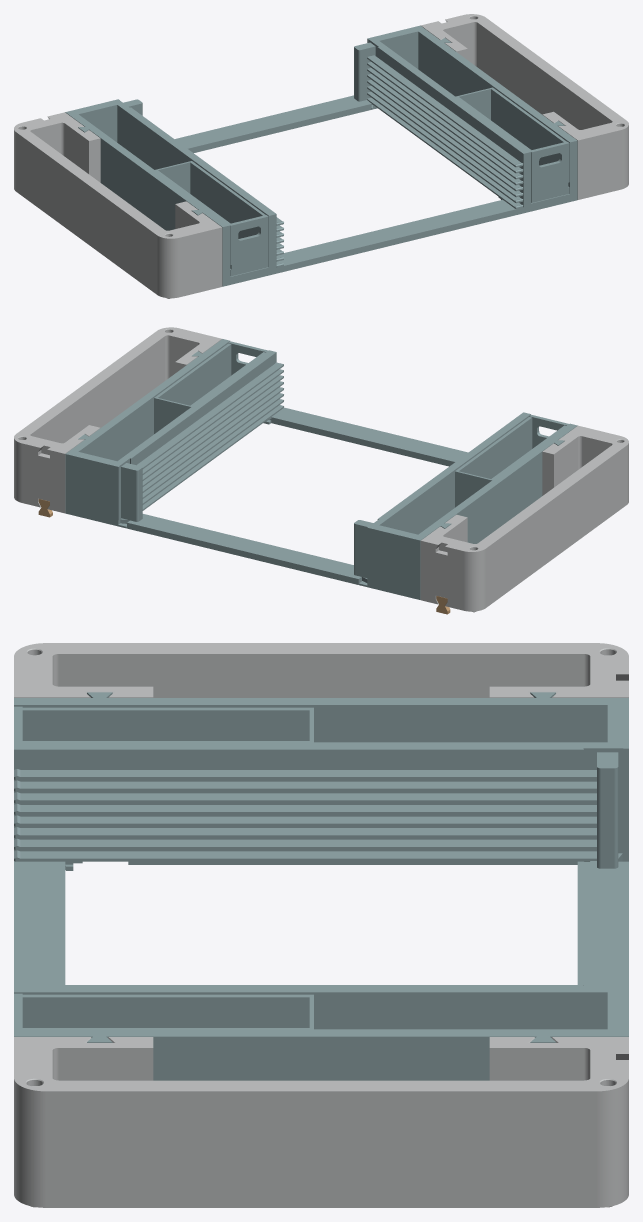
The model's file is layer-assembly.glb.
The picture shows the model from 3 angles, top to bottom: view 1: azimuth 30°, elevation 25°; view 2: azimuth 150°, elevation 25°; view 3: azimuth 270°, elevation 25°; orthographic projection. The views are drawn at different scales.
Parts seen in each view (by area): view 1: B07, B04, B08, B03, B09, B10, B05, B06; view 2: B04, B07, B03, B08, B06, B05, B10, B09; view 3: B03, B08, B04, B07, B09, B10, B05, B06.
Boxes of the visible parts, x1,y1,x2,y2 form: B07: [14, 112, 222, 298]; B04: [354, 25, 577, 214]; B08: [420, 14, 628, 199]; B03: [65, 99, 284, 286]; B09: [155, 161, 268, 276]; B10: [455, 87, 569, 202]; B05: [280, 199, 515, 271]; B06: [175, 95, 372, 152]; B04: [65, 339, 283, 528]; B07: [420, 425, 628, 612]; B03: [354, 412, 577, 599]; B08: [14, 327, 221, 513]; B06: [120, 514, 367, 584]; B05: [270, 407, 468, 466]; B10: [154, 341, 268, 433]; B09: [455, 414, 568, 507]; B03: [14, 692, 628, 870]; B08: [14, 1037, 628, 1207]; B04: [14, 974, 628, 1080]; B07: [14, 643, 628, 697]; B09: [14, 706, 313, 742]; B10: [14, 993, 313, 1029]; B05: [14, 861, 65, 984]; B06: [577, 853, 628, 985].
Bounding box in the file's own units: 0.495 × 0.068 × 0.287.
